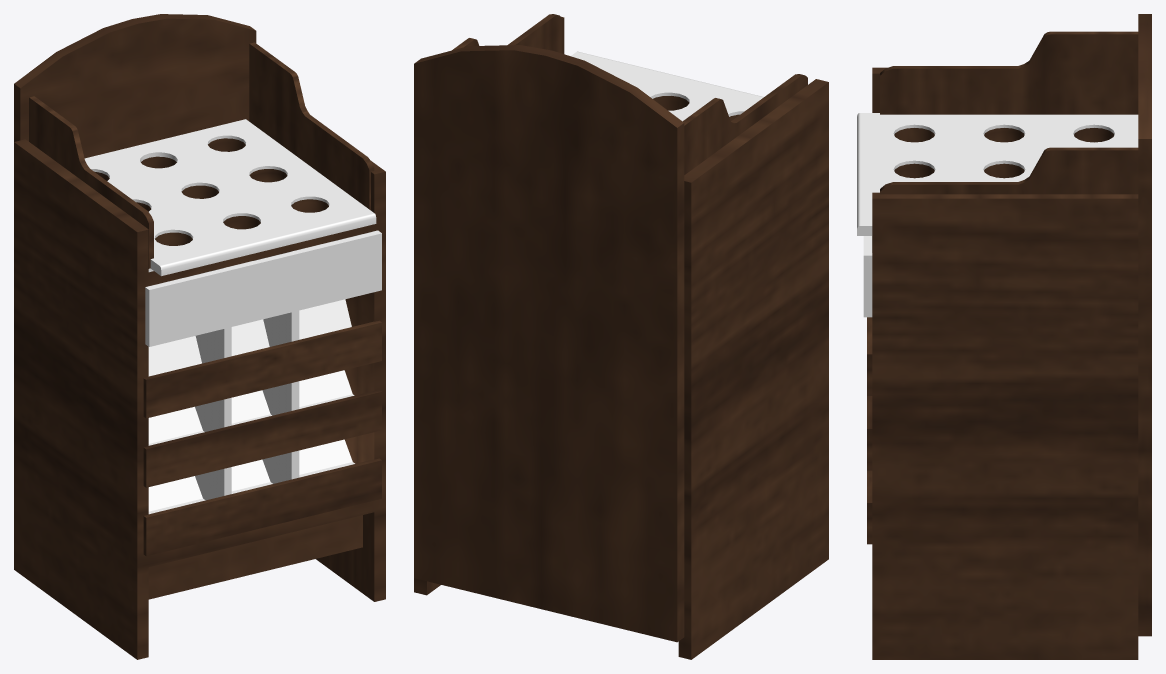
File: Sapo.fbx
3 views of the same model, side by side, from view 1: azimuth 30°, elevation 25°; view 2: azimuth 150°, elevation 25°; view 3: azimuth 270°, elevation 25° (orthographic). The views are drawn at different scales.
Visible parts, largest first — view 1: Base, Blanco, CajonPuntaje; view 2: Base, Blanco; view 3: Base, Blanco, CajonPuntaje.
Part boxes in pixels (x1,y1,x2,y2): Base: (14,14,385,659); Blanco: (84,119,376,276); CajonPuntaje: (145,230,381,346); Base: (414,14,828,659); Blanco: (571,51,763,121); Base: (867,14,1151,659); Blanco: (857,113,1138,235); CajonPuntaje: (863,236,872,317).
Bounding box in the file's own units: 59.9 × 119 × 57.05.
